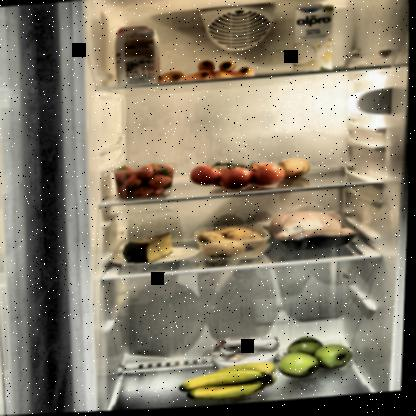apple: (278, 335, 358, 382)
banana: (180, 363, 282, 407)
carrot: (157, 57, 260, 88)
cheese: (123, 232, 178, 267)
chicken: (265, 207, 364, 256)
milk: (290, 3, 340, 79)
potato: (196, 223, 267, 262)
strawberries: (112, 163, 180, 205)
sweet_potato: (274, 154, 314, 187)
tomato: (189, 157, 289, 196)
